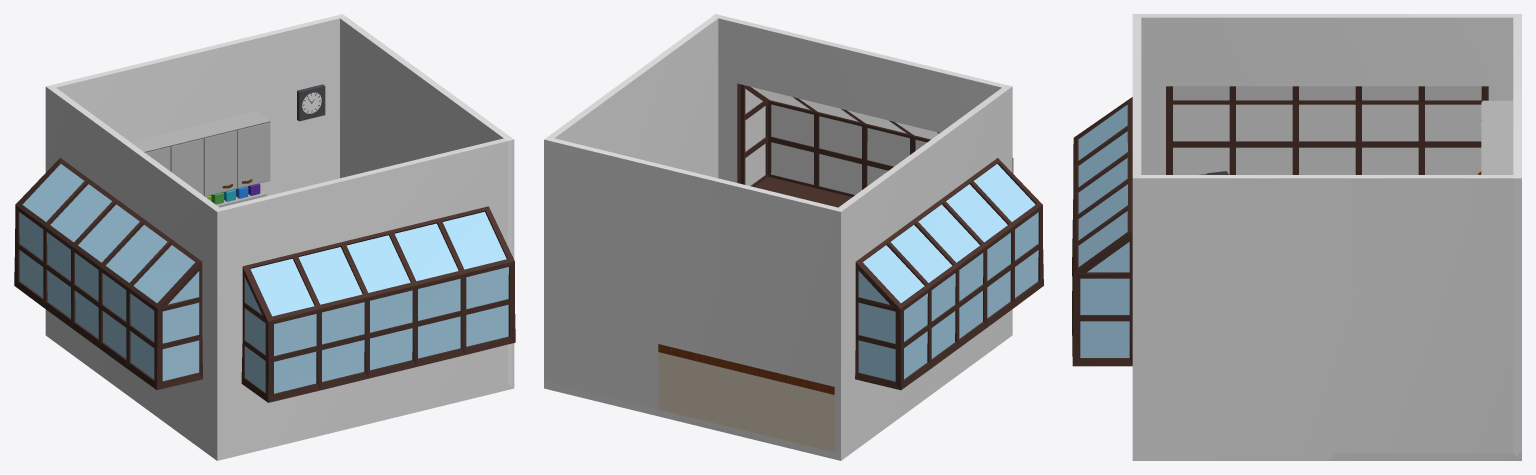
Rendered from Kitchen1.fbx.
3 views of the same model, side by side, from view 1: azimuth 30°, elevation 25°; view 2: azimuth 150°, elevation 25°; view 3: azimuth 270°, elevation 25° (orthographic). The views are drawn at different scales.
Visible parts, largest first — view 1: Wall.011, Wall.009; view 2: Wall.009, Wall.011, Desk, Kitchen; view 3: Wall.011, Wall.009, Kitchen.
Part boxes in pixels (bbox=[...]): Wall.011: bbox=[217, 17, 515, 460]; Wall.009: bbox=[14, 14, 345, 460]; Wall.009: bbox=[544, 85, 1043, 460]; Wall.011: bbox=[548, 14, 1013, 207]; Desk: bbox=[658, 344, 834, 452]; Kitchen: bbox=[544, 381, 840, 460]; Wall.011: bbox=[1072, 17, 1521, 460]; Wall.009: bbox=[1132, 14, 1521, 457]; Kitchen: bbox=[1327, 453, 1521, 460].
Bounding box in the file's own units: 5.37 × 3.72 × 5.37.
